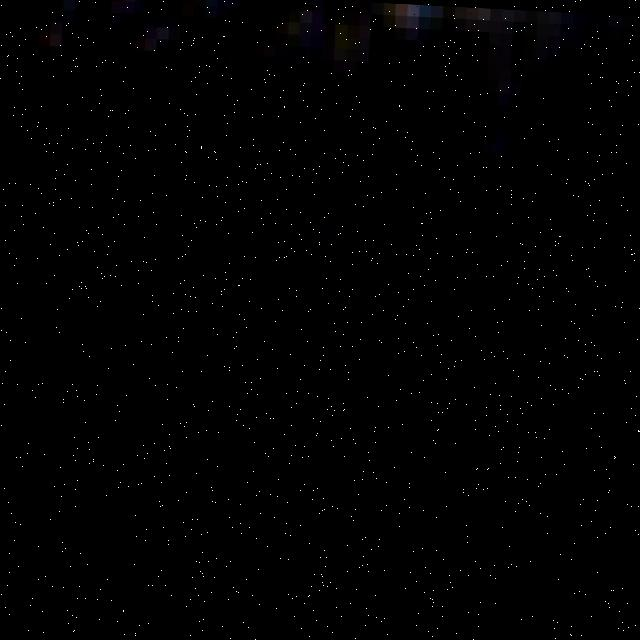Ograniczenie predkosci do 80: (92, 75, 570, 567)
